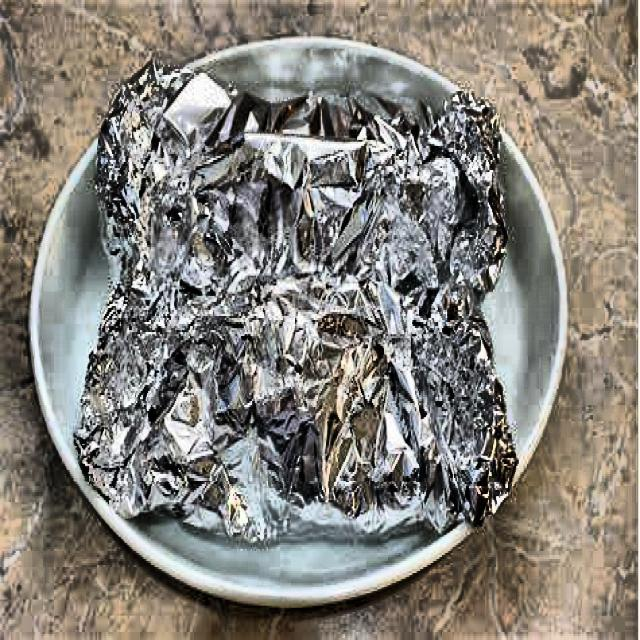Foil: (66, 44, 529, 547)
